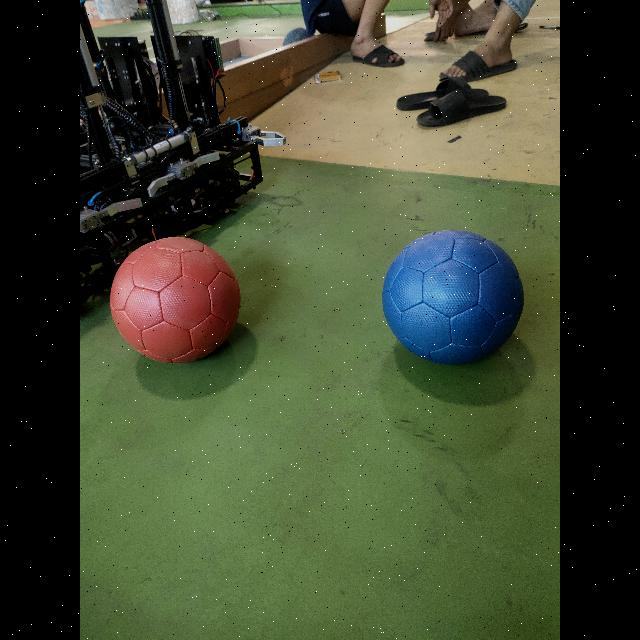B: (384, 231, 524, 365)
R: (110, 238, 242, 362)
